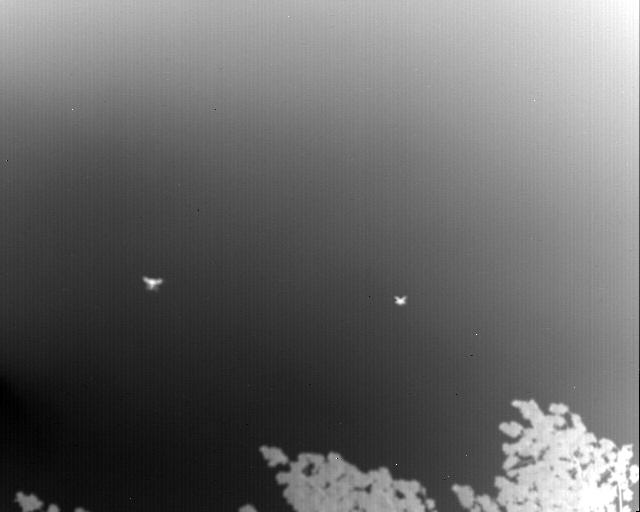plane: (142, 275, 163, 289), (394, 296, 408, 306)
